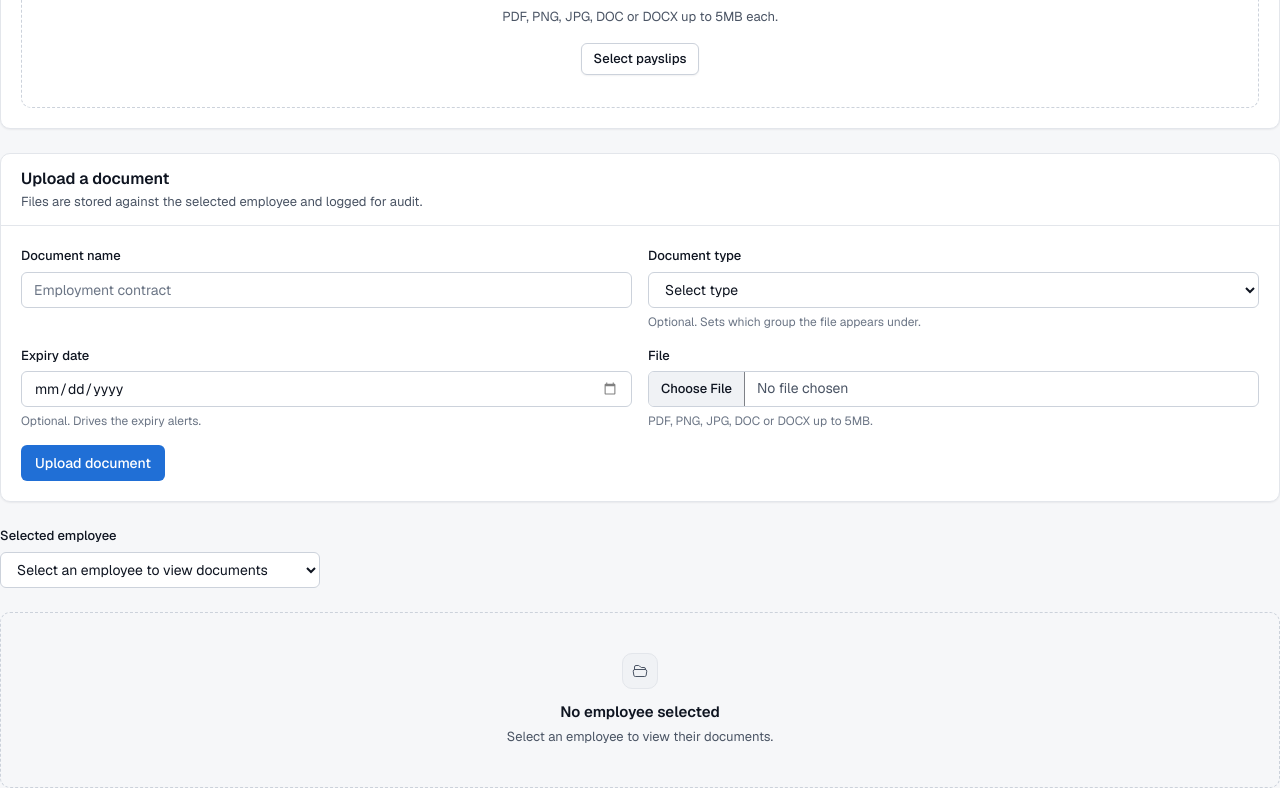
Scenario: Documents Page › shows mandatory field validation before uploading a document
(page scrolled)
Step 1. Click the button "Upload document" → click(93, 463), box [21,445,165,481]
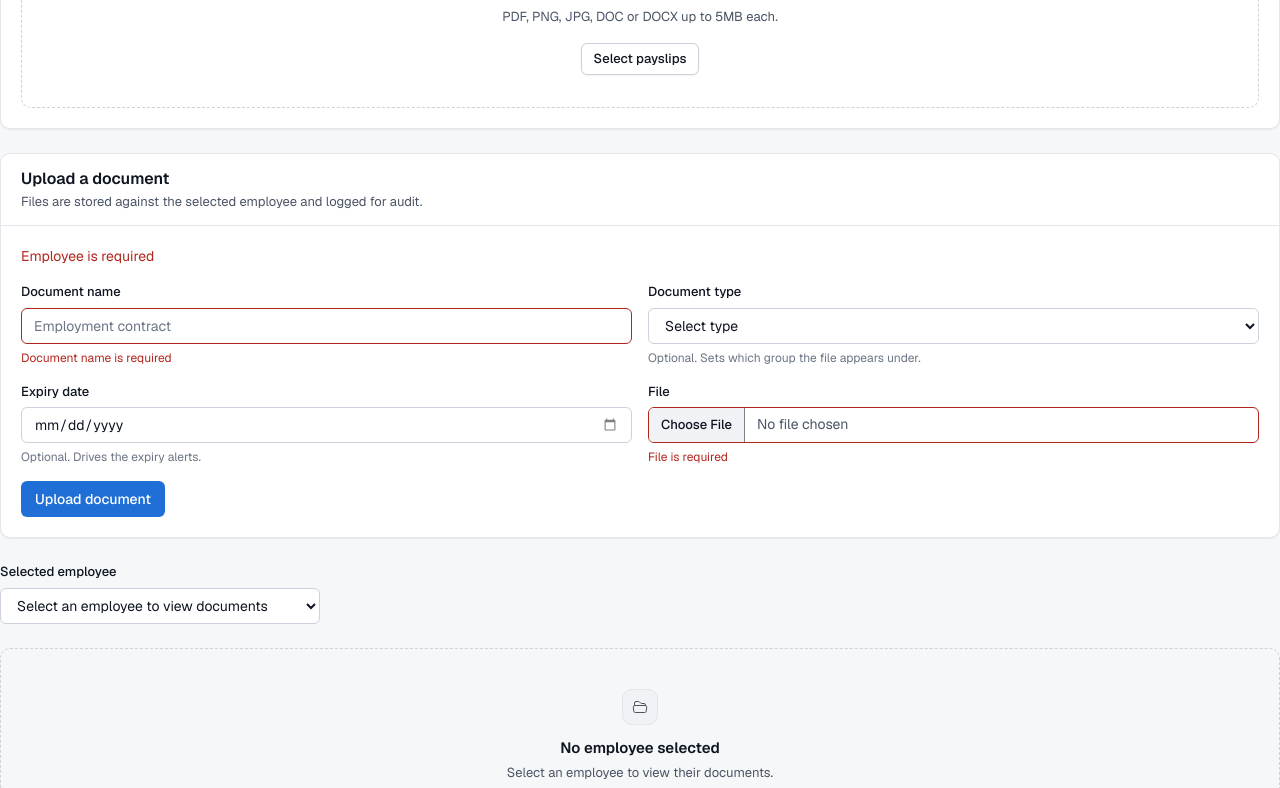
expect the text "Employee is required" is shown: met, box [21,247,154,265]
expect the text "Document name is required" is shown: met, box [21,350,172,366]
expect the text "File is required" is shown: met, box [648,449,728,465]
